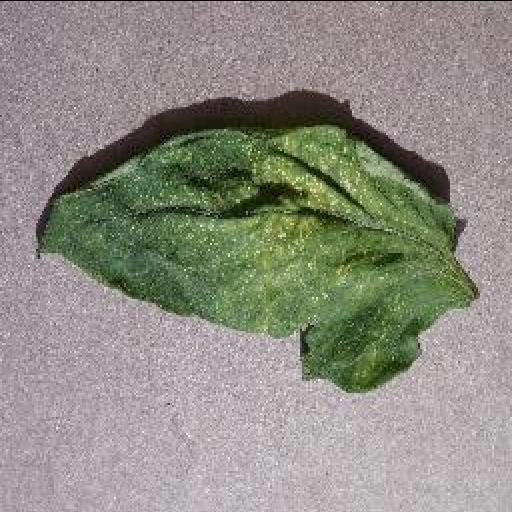disease_tomato: (35, 124, 477, 393)
